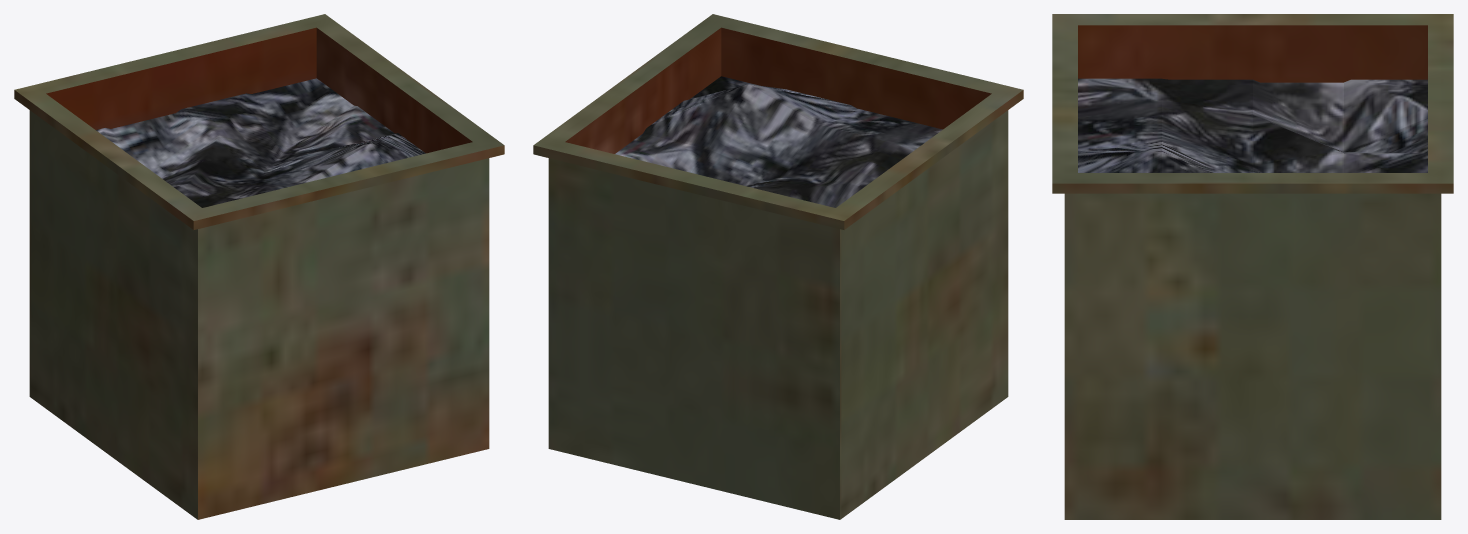
File: Trash can.fbx
3 views of the same model, side by side, from view 1: azimuth 30°, elevation 25°; view 2: azimuth 150°, elevation 25°; view 3: azimuth 270°, elevation 25° (orthographic). The views are drawn at different scales.
Parts seen in each view (by area): view 1: Trash can looted, Trash can not looted; view 2: Trash can looted, Trash can not looted; view 3: Trash can looted, Trash can not looted.
Part boxes in pixels (x1=…): Trash can looted: x1=14, y1=14, x2=504, y2=519; Trash can not looted: x1=96, y1=78, x2=425, y2=207; Trash can looted: x1=533, y1=14, x2=1023, y2=519; Trash can not looted: x1=615, y1=76, x2=942, y2=207; Trash can looted: x1=1052, y1=14, x2=1453, y2=519; Trash can not looted: x1=1078, y1=78, x2=1427, y2=172.
Bounding box in the file's own units: 436 × 409 × 436.
5 materials, 5 textured.
